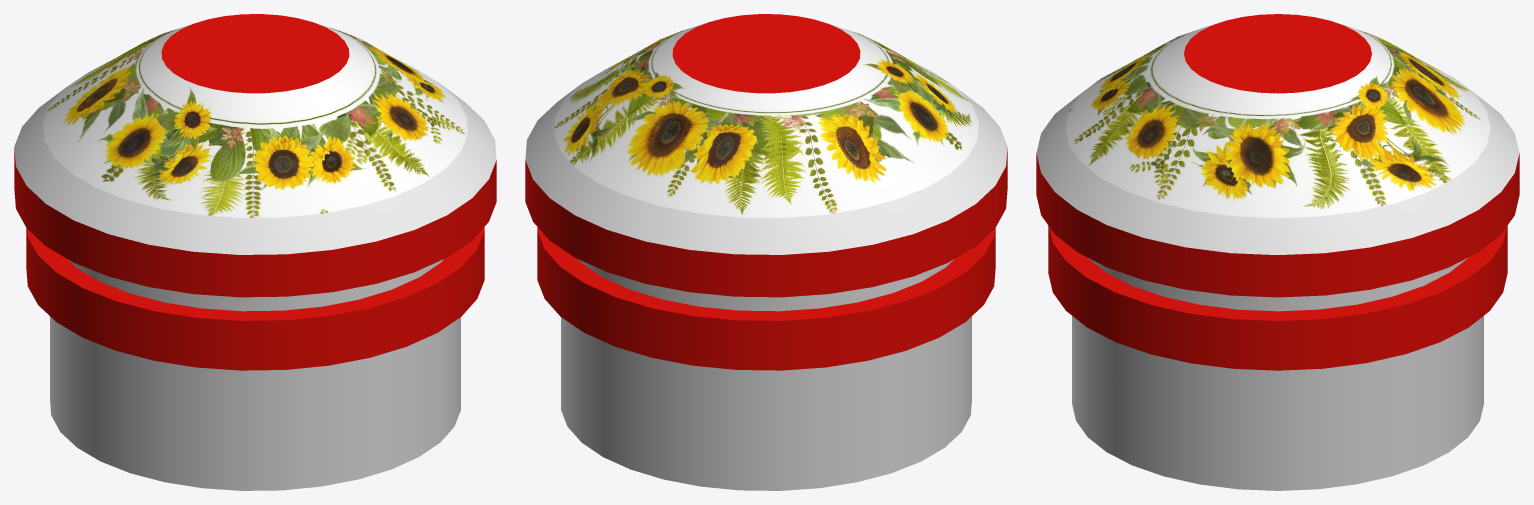
The model's file is Bumper.fbx.
The picture shows the model from 3 angles, left to right: view 1: azimuth 30°, elevation 25°; view 2: azimuth 150°, elevation 25°; view 3: azimuth 270°, elevation 25°; orthographic projection.
Parts seen in each view (by area): view 1: Cylinder; view 2: Cylinder; view 3: Cylinder.
Part boxes in pixels (box(x1,y1,x2,y2)): Cylinder: box(14, 14, 496, 490); Cylinder: box(525, 14, 1007, 490); Cylinder: box(1036, 14, 1519, 490).
Size of the model in its own units: 150 by 120 by 150.
